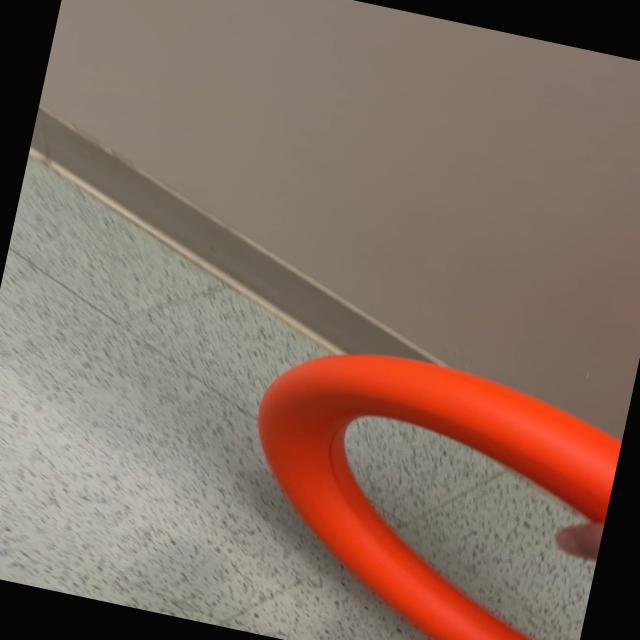note: (210, 326, 627, 640)
